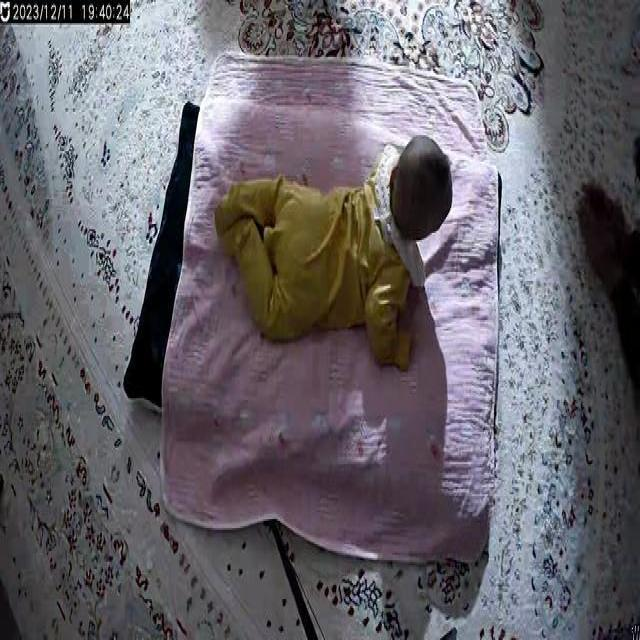baby: (212, 119, 463, 384)
